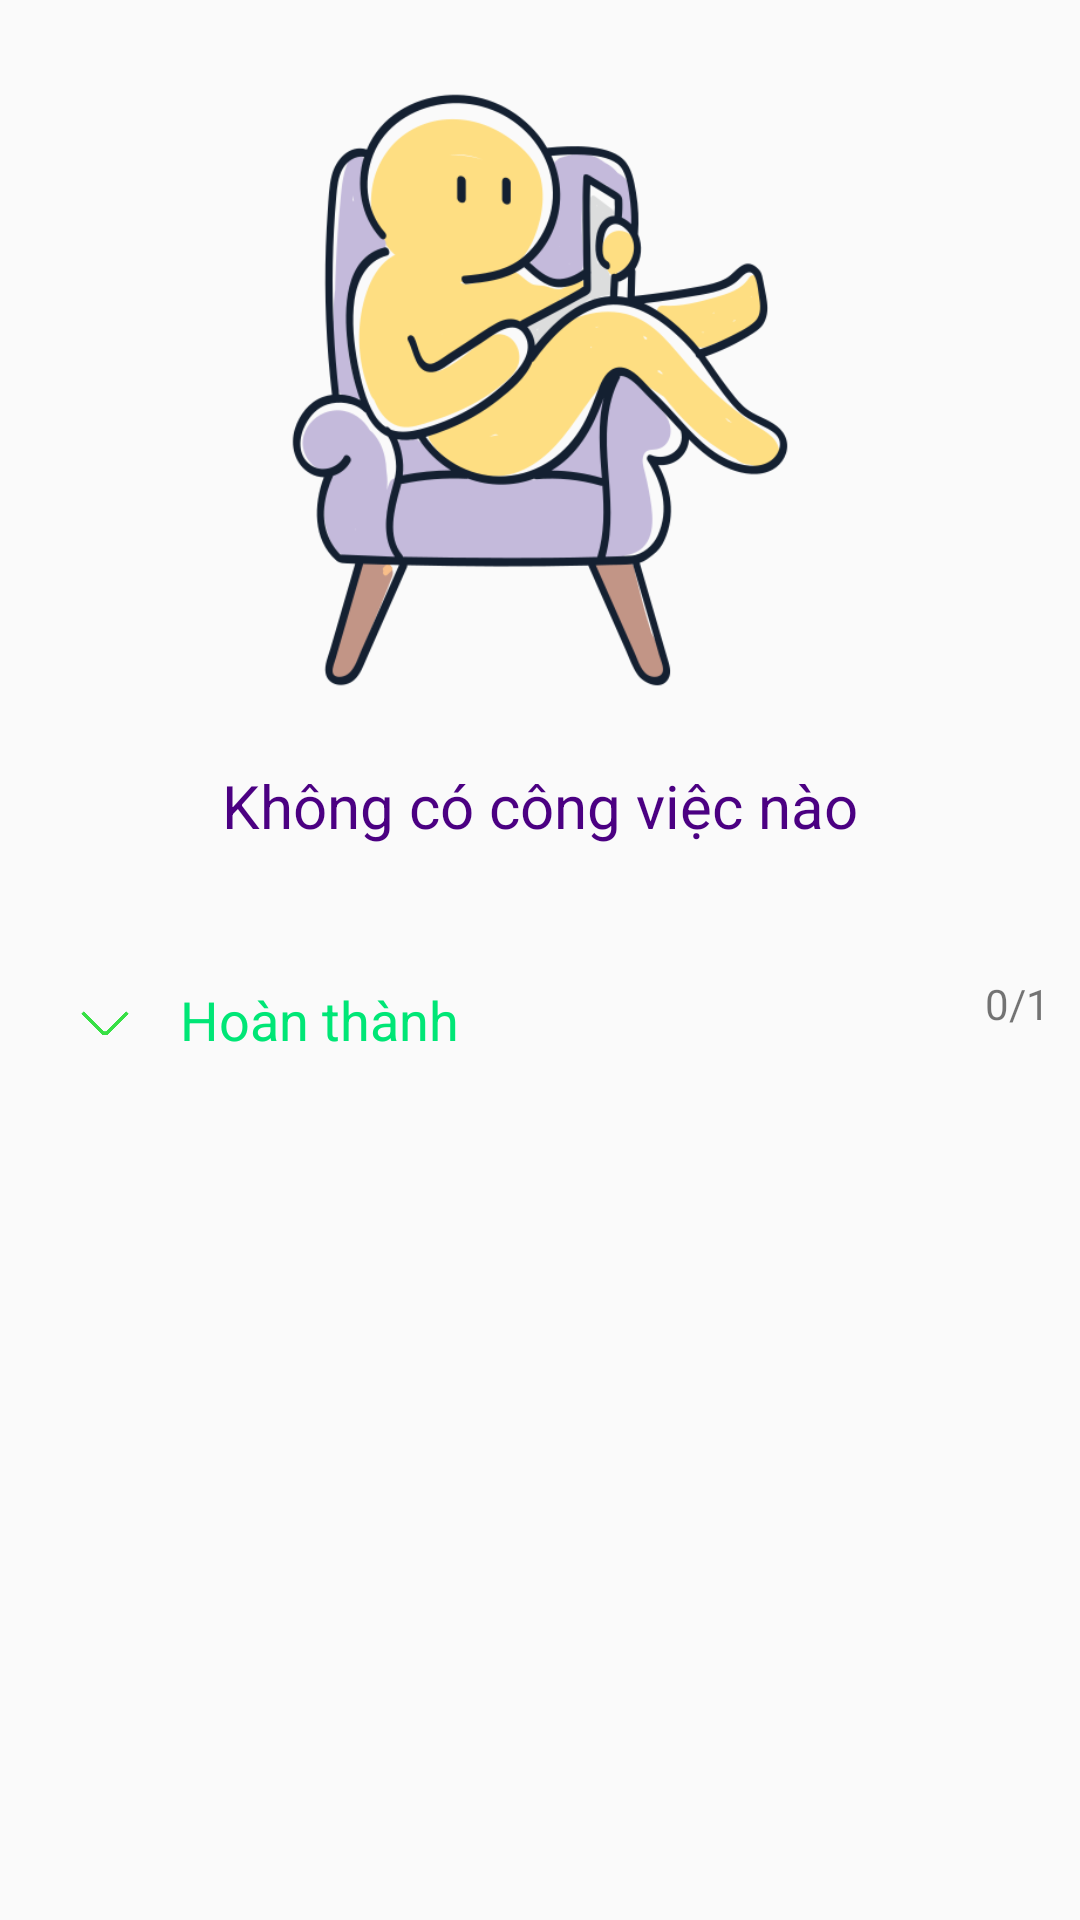

Named icons in this screenshot (1080px×1920px) and their centers, (x,y):
down: (105,1023)
